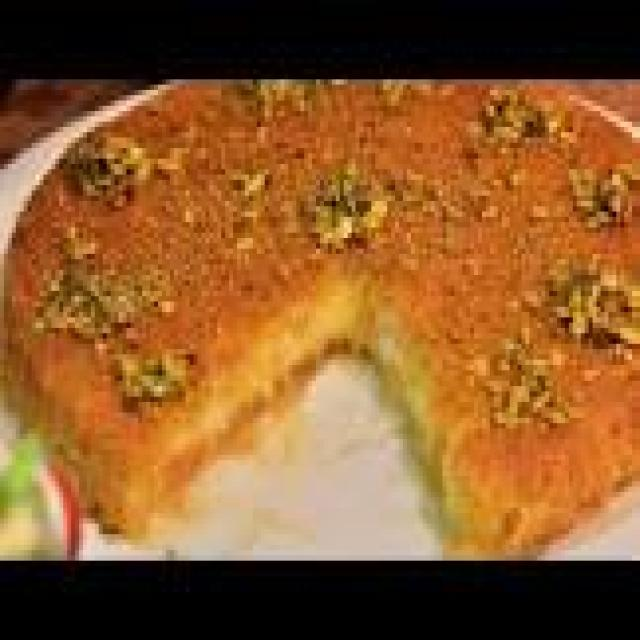konafa: (1, 78, 640, 558)
